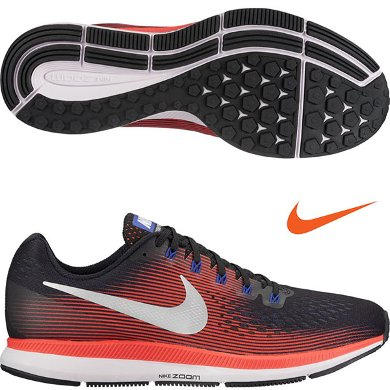nike: (44, 275, 212, 338), (284, 199, 379, 235)
